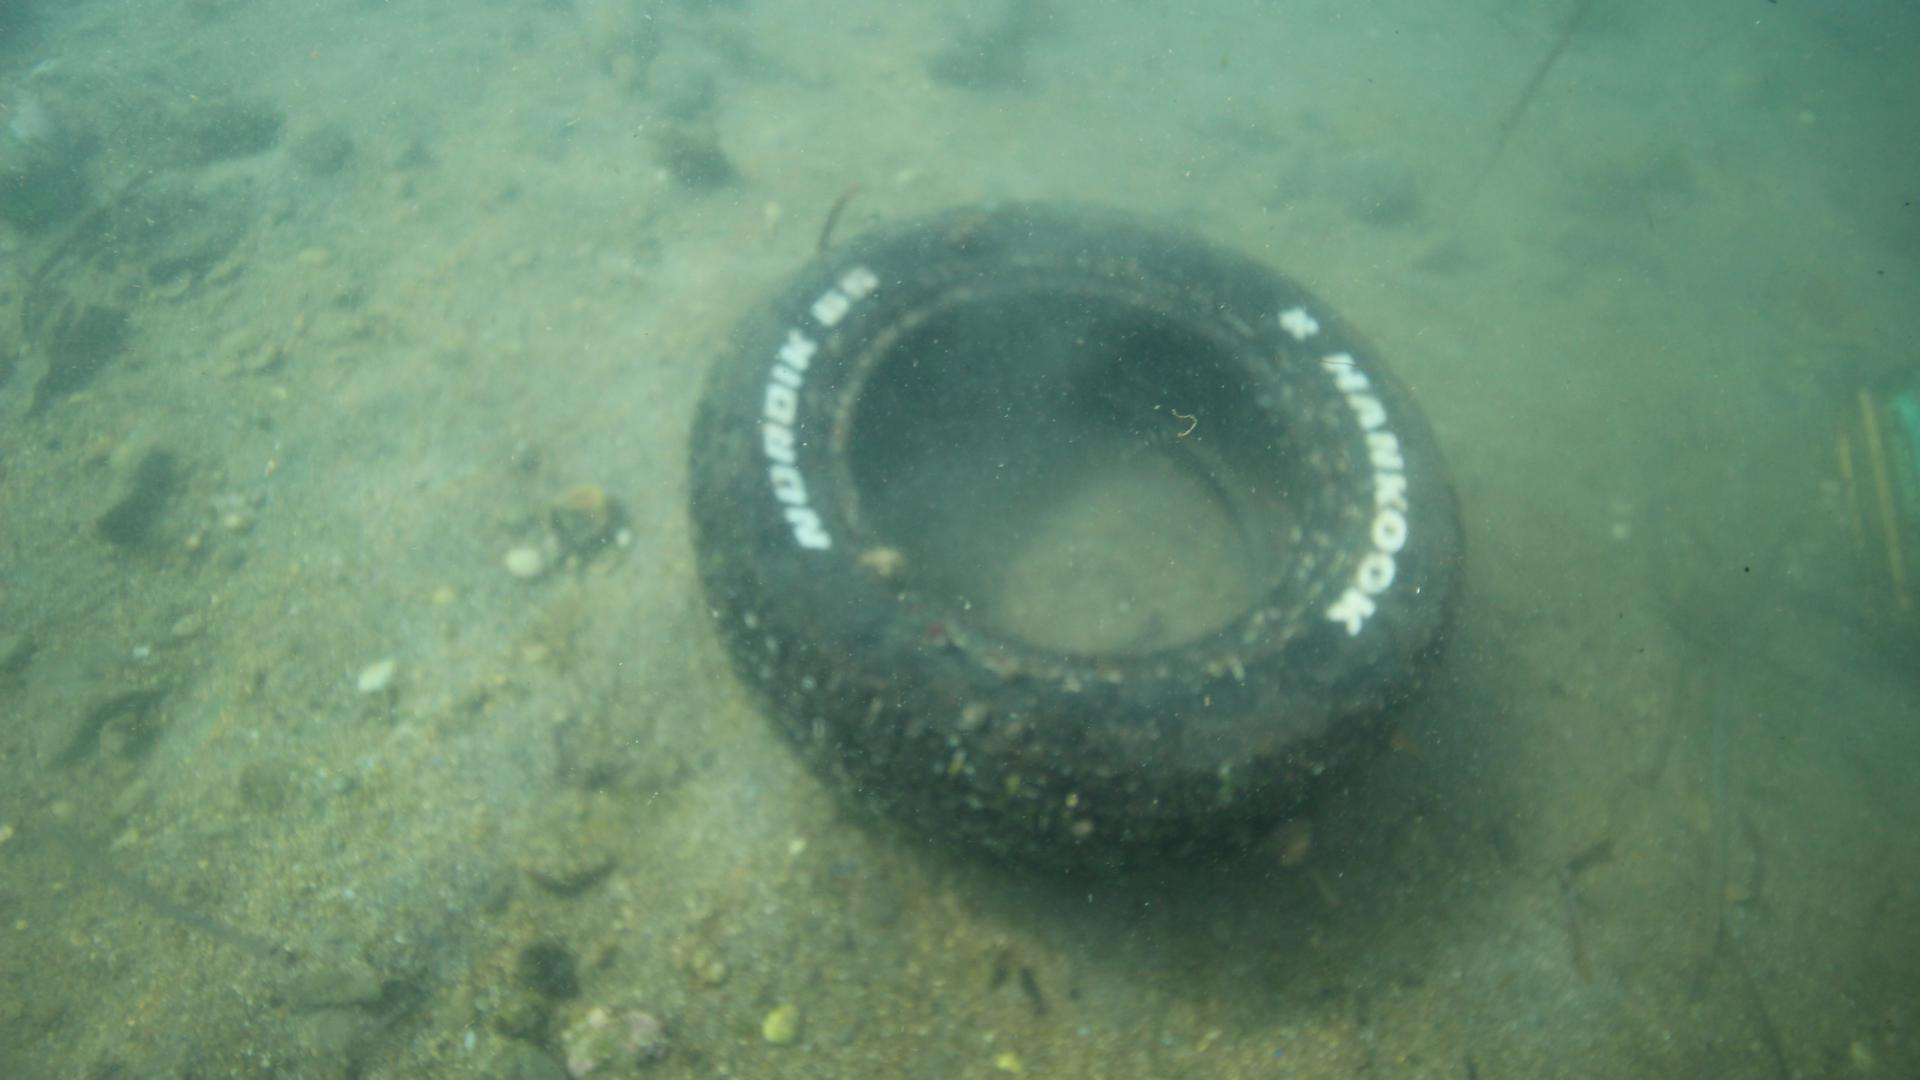tire: (680, 207, 1474, 858)
